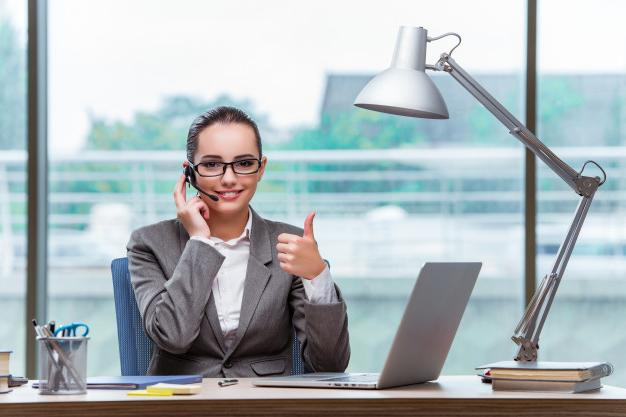thumbsup: (276, 211, 315, 271)
